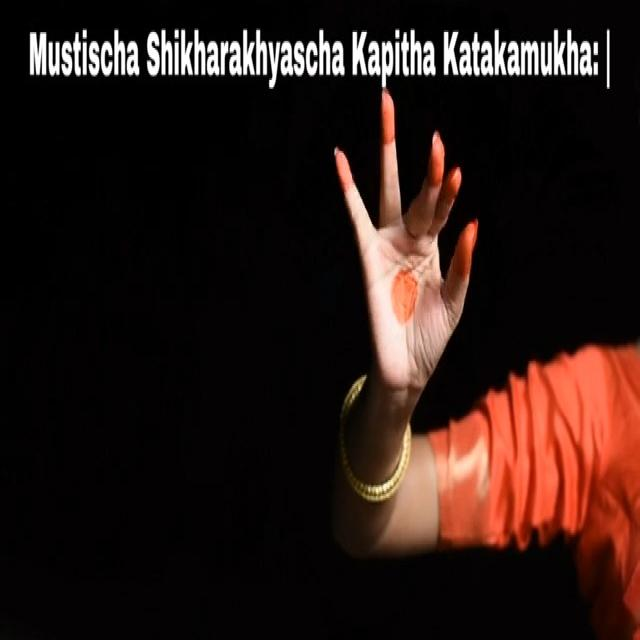Katakamukha: (324, 92, 497, 399)
bangle: (324, 412, 422, 518)
text: (17, 21, 615, 98)
